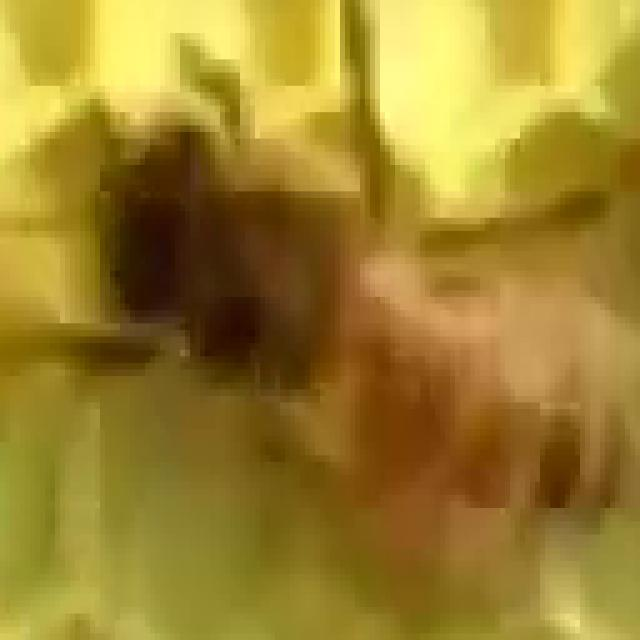honeybee: (35, 24, 640, 582)
